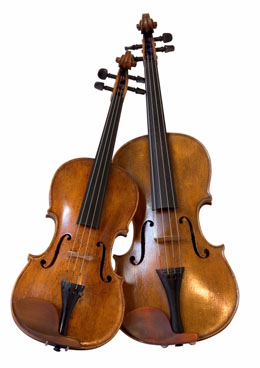Fiddle: (17, 50, 140, 347), (139, 19, 245, 348)
